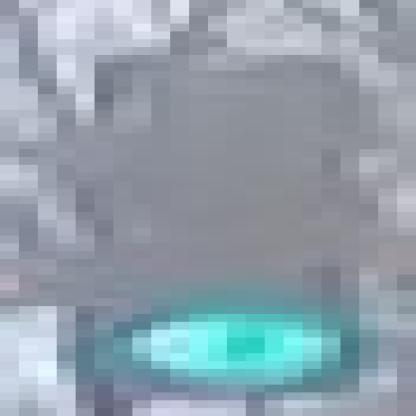Green Light: (93, 55, 369, 396)
